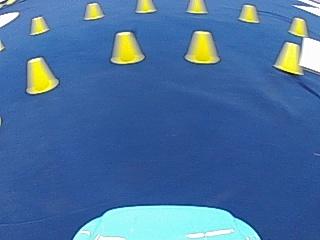cone: (25, 56, 58, 94), (184, 30, 219, 64), (110, 30, 144, 64), (273, 40, 302, 74), (238, 4, 259, 23), (288, 17, 307, 37), (83, 2, 103, 20), (30, 16, 48, 35), (186, 0, 206, 14), (136, 0, 155, 13)
